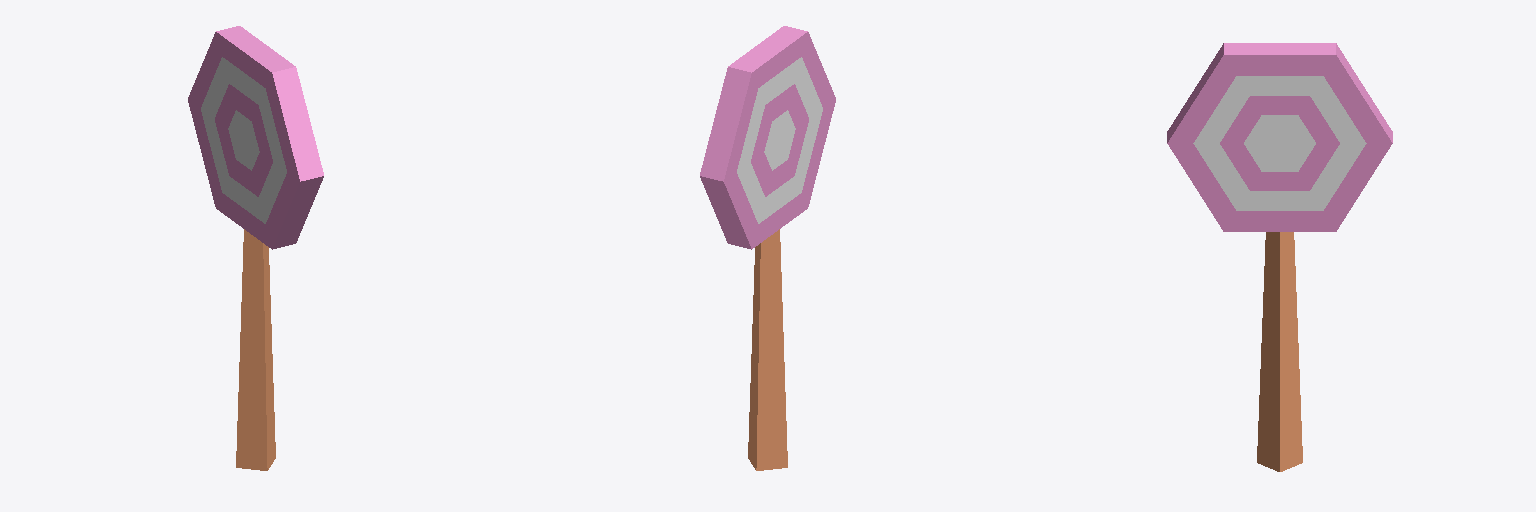
Rendered from lollypop.obj.
The picture shows the model from 3 angles: view 1: azimuth 30°, elevation 25°; view 2: azimuth 150°, elevation 25°; view 3: azimuth 270°, elevation 25°; orthographic projection.
Parts seen in each view (by area): view 1: lollypop; view 2: lollypop; view 3: lollypop.
Boxes of the visible parts, x1=… form: lollypop: x1=188, y1=26, x2=323, y2=470; lollypop: x1=700, y1=26, x2=835, y2=470; lollypop: x1=1167, y1=43, x2=1392, y2=471.
Size of the model in its own units: 0.0385 by 0.3798 by 0.1875.